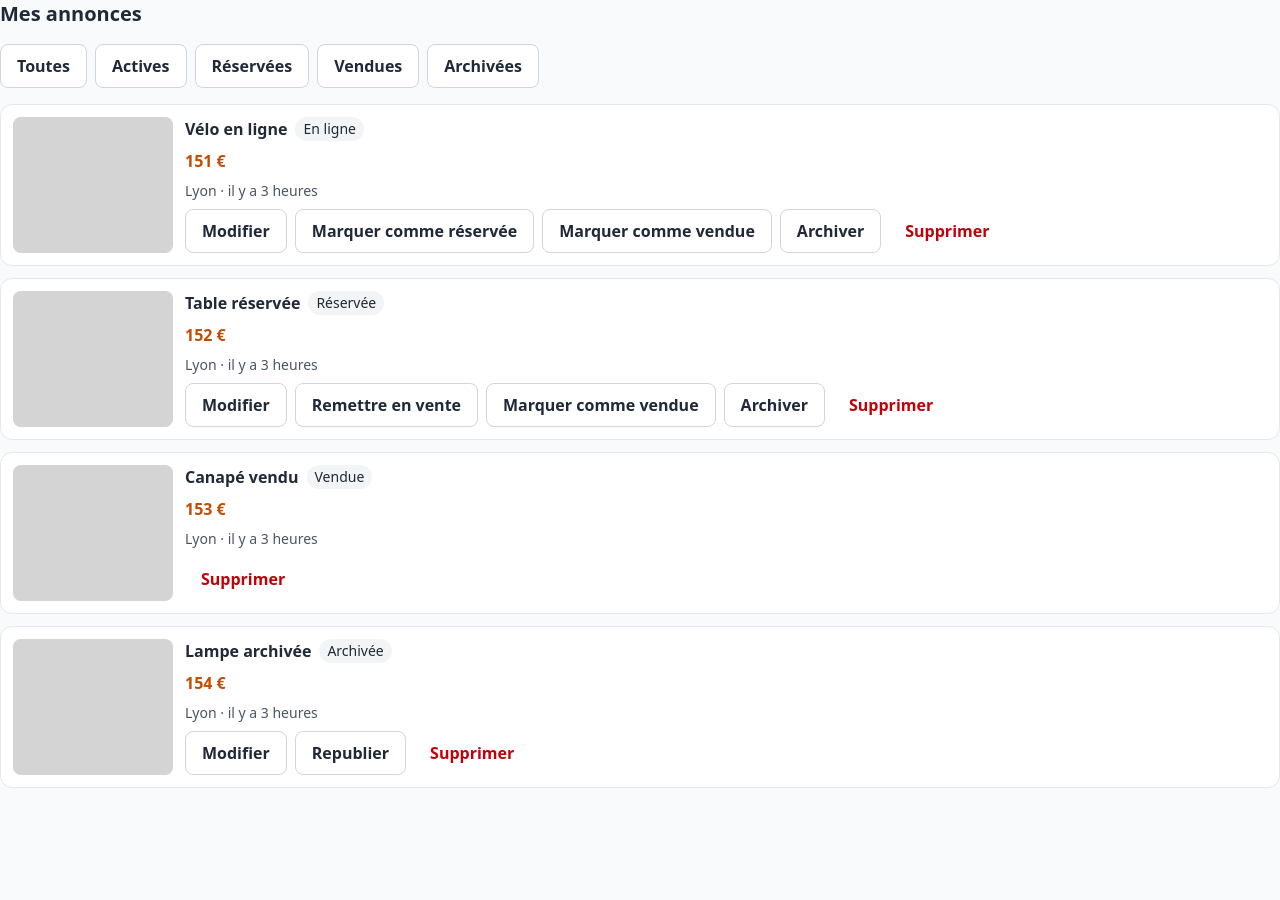
Test: Mes annonces : suppression › ne supprime rien avant la confirmation, et rien du tout si on annule
Expected: the link "Vélo en ligne" is shown, left=185, top=117, right=288, bottom=141
Click the 1st button "Supprimer".
click(947, 231)  # box left=889, top=209, right=1006, bottom=253
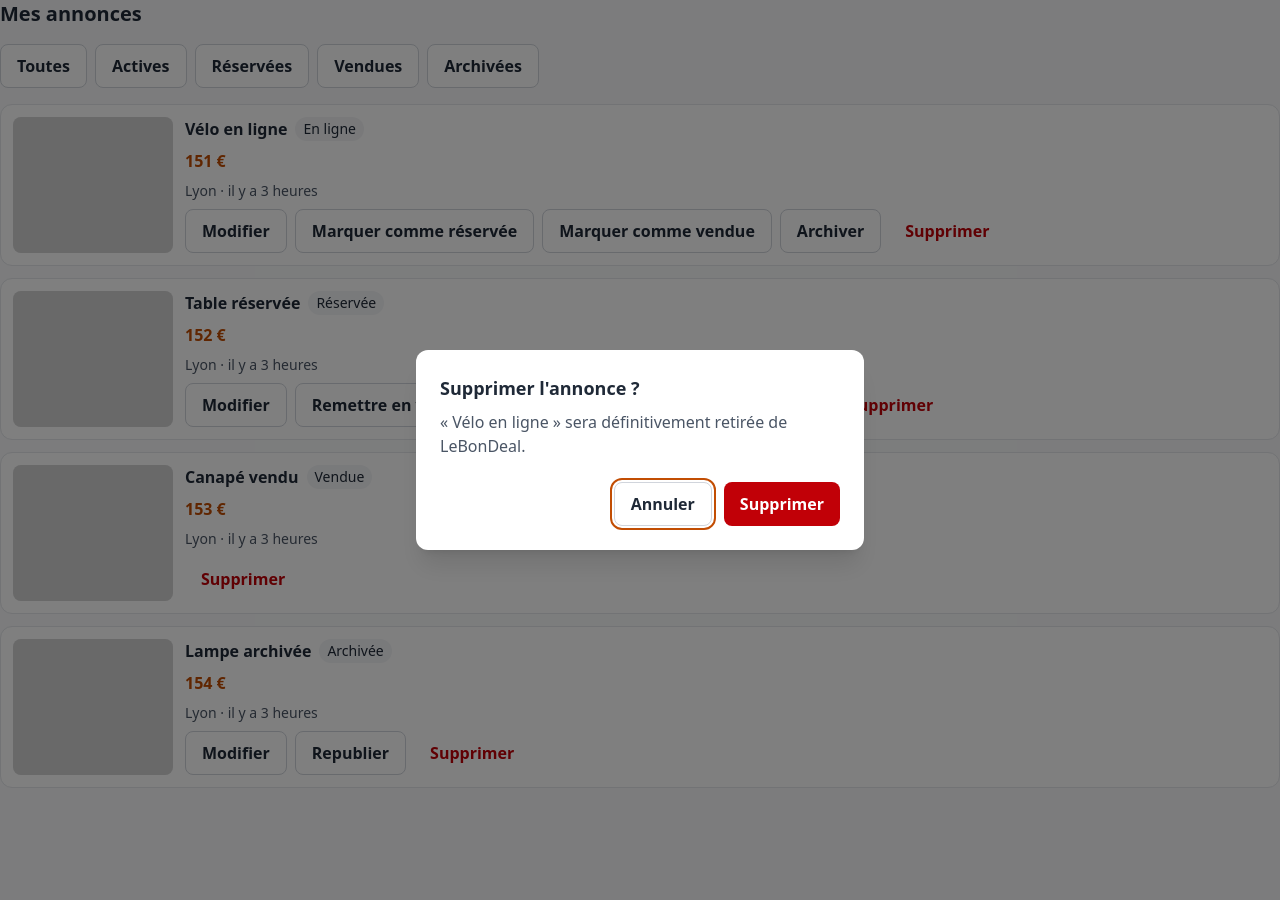
Expected: the dialog "Supprimer l'annonce" is shown, left=416, top=350, right=864, bottom=550
Click the button "Annuler".
click(663, 504)  # box left=614, top=482, right=712, bottom=526
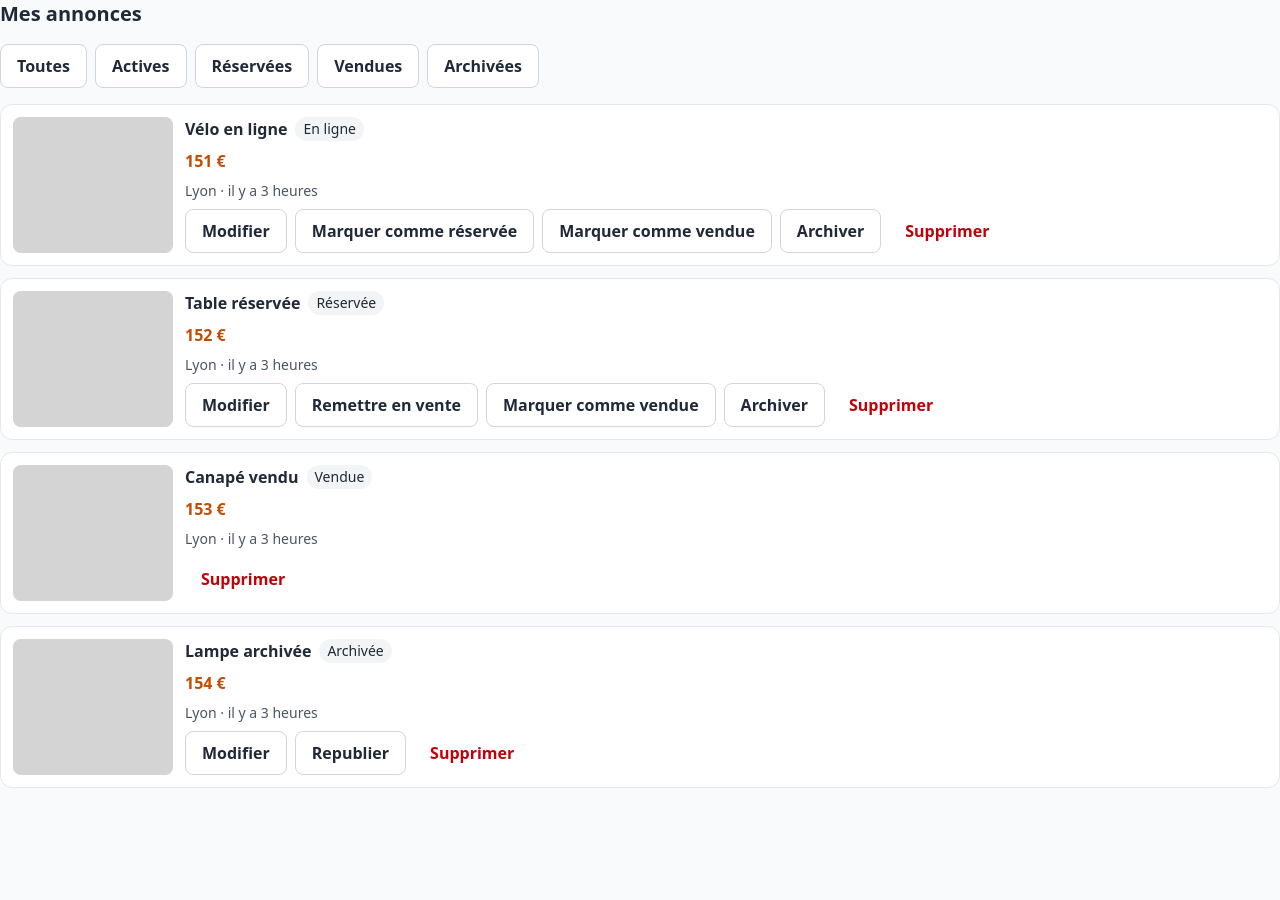
Expected: the dialog is gone
